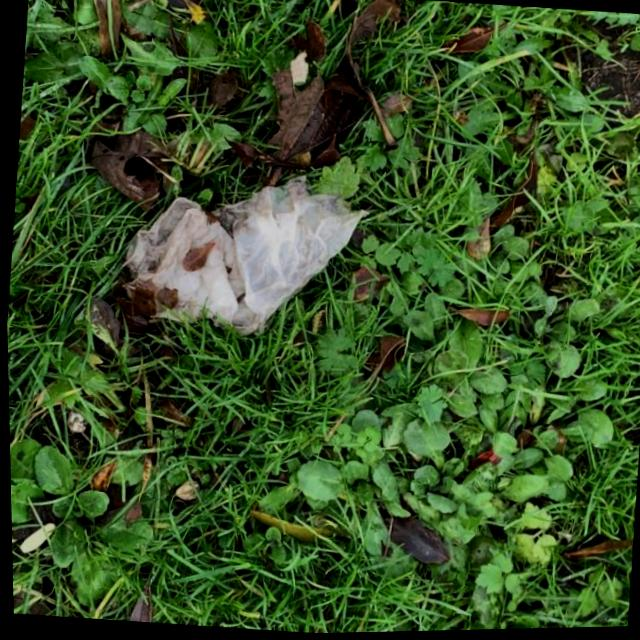Paper: (115, 155, 374, 350)
